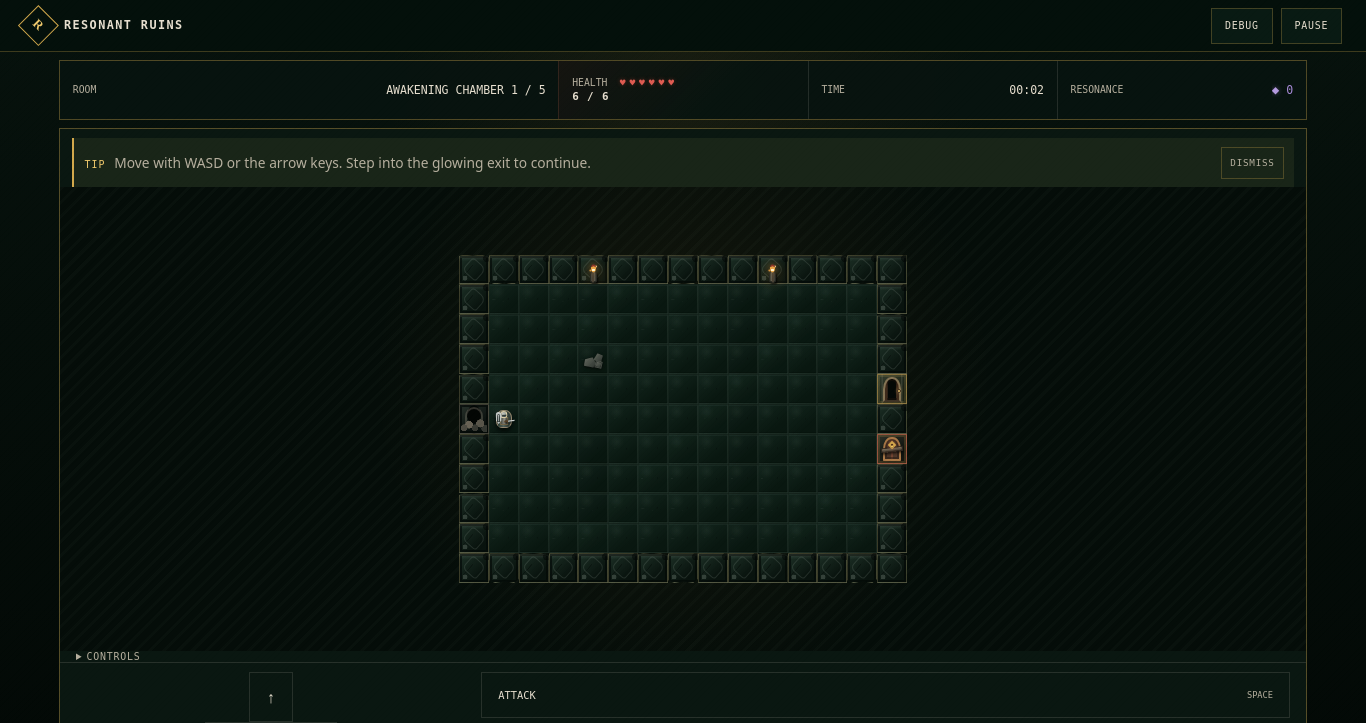
Scenario: Resonant Ruins dungeon routing, run layout, and pause flow › opens the development Debug drawer closed-by-default and overlays without narrative
expect the dialog "Debug Tools" is not shown: met
What coordinates should you click on to do the following:
click the button "Debug"
I would click on:
 (1242, 26)
Its box is [1211,8,1273,44].
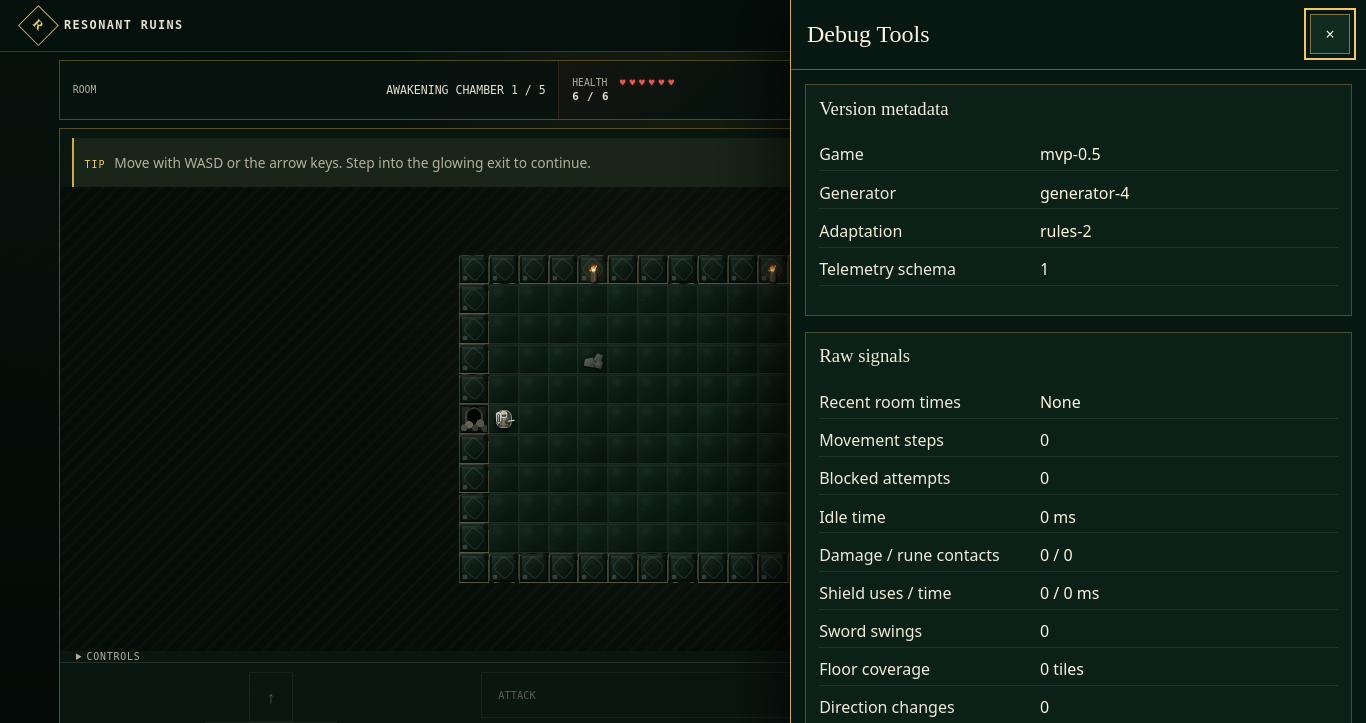
What coordinates should you click on to do the following:
click the button named "Close Debug Tools"
I would click on:
 (1330, 34)
Its box is [1310,14,1350,54].
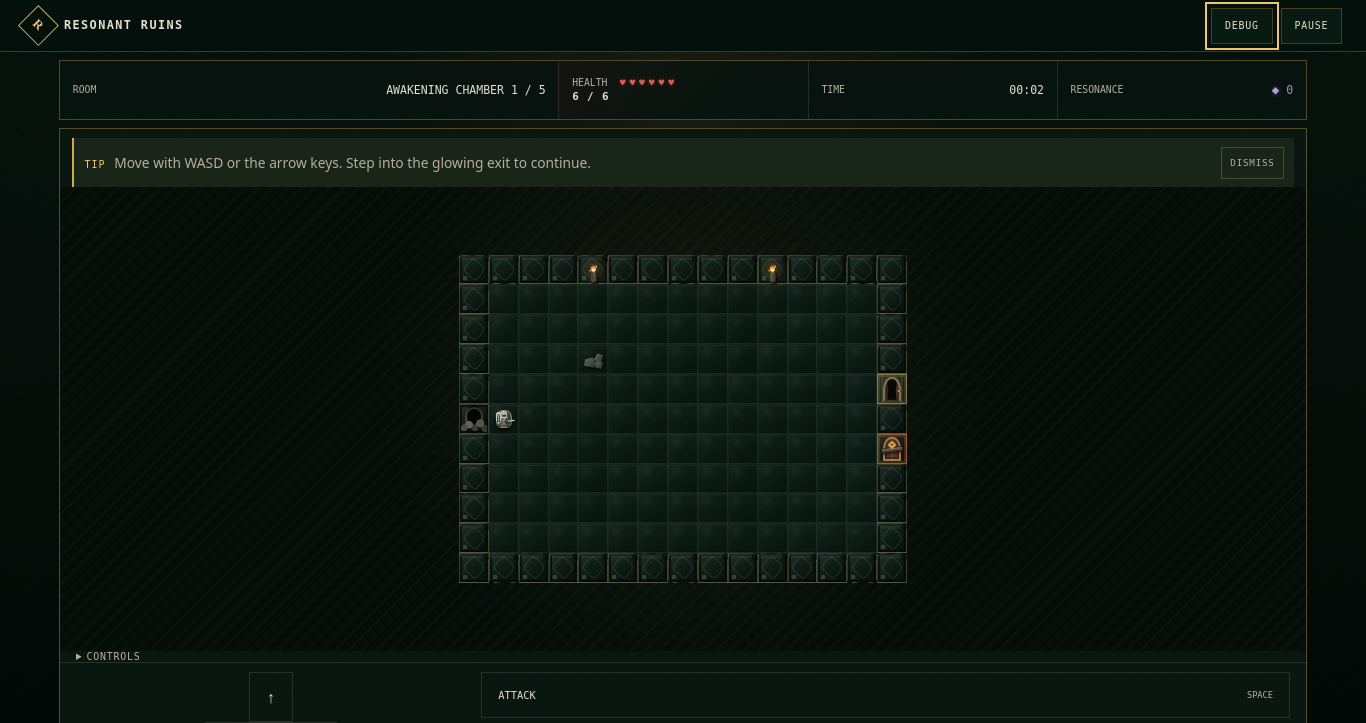
expect the heading "Debug Tools" is gone: met
